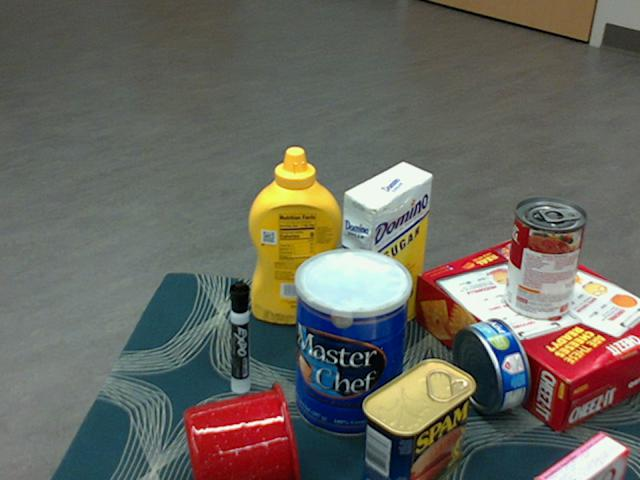cracker_box: (414, 236, 639, 429)
gelatin_box: (530, 431, 625, 479)
large_marker: (228, 280, 248, 394)
master_chef_can: (294, 249, 413, 439)
mug: (182, 382, 300, 479)
mustard_bottle: (248, 147, 341, 324)
potted_meat_can: (361, 359, 476, 479)
sugar_box: (336, 163, 433, 352)
tomato_soup_can: (504, 199, 586, 321)
tuna_fish_can: (453, 317, 532, 413)
